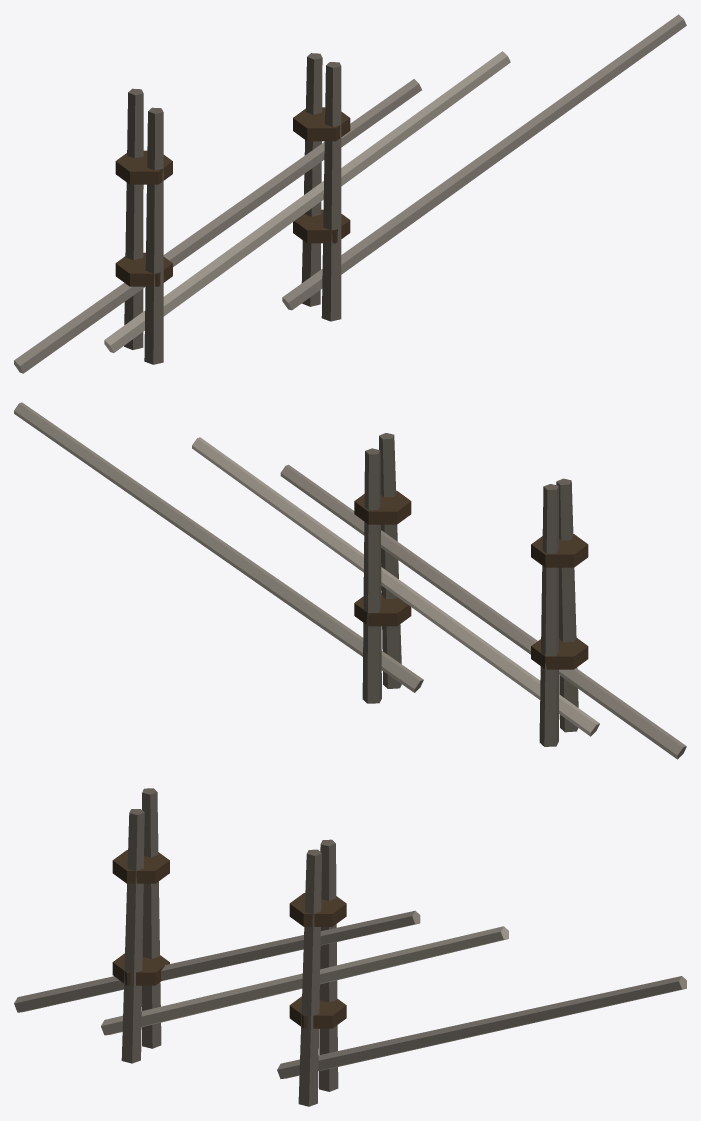
Rendered from forest_gardsgard_b.glb.
3 renders of one model, top to bottom at view 1: azimuth 30°, elevation 25°; view 2: azimuth 150°, elevation 25°; view 3: azimuth 330°, elevation 25°, orthographic.
Visible parts, largest first — view 1: forest_gardsgard_b; view 2: forest_gardsgard_b; view 3: forest_gardsgard_b.
Part boxes in pixels (bbox=[...]): forest_gardsgard_b: bbox=[14, 14, 686, 373]; forest_gardsgard_b: bbox=[14, 402, 686, 759]; forest_gardsgard_b: bbox=[14, 788, 686, 1106].
Bounding box in the file's own units: 3.78 × 1.38 × 0.2904.
